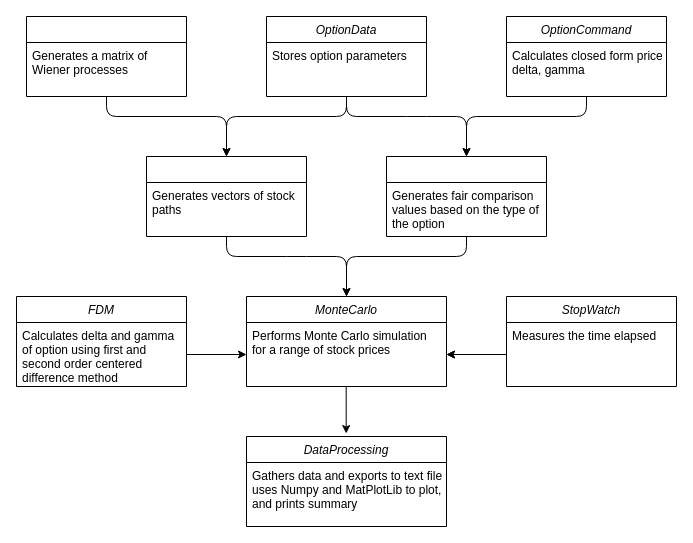
This 693x543 diagram has some shape labels left out. The shapes that lost their labels are listed below. From the top down, each one's box as (x1, y1, x2, y2) in pixels, then its label:
(26, 16, 186, 96): RNG
(146, 156, 306, 236): SDE
(386, 156, 546, 236): FairValue
